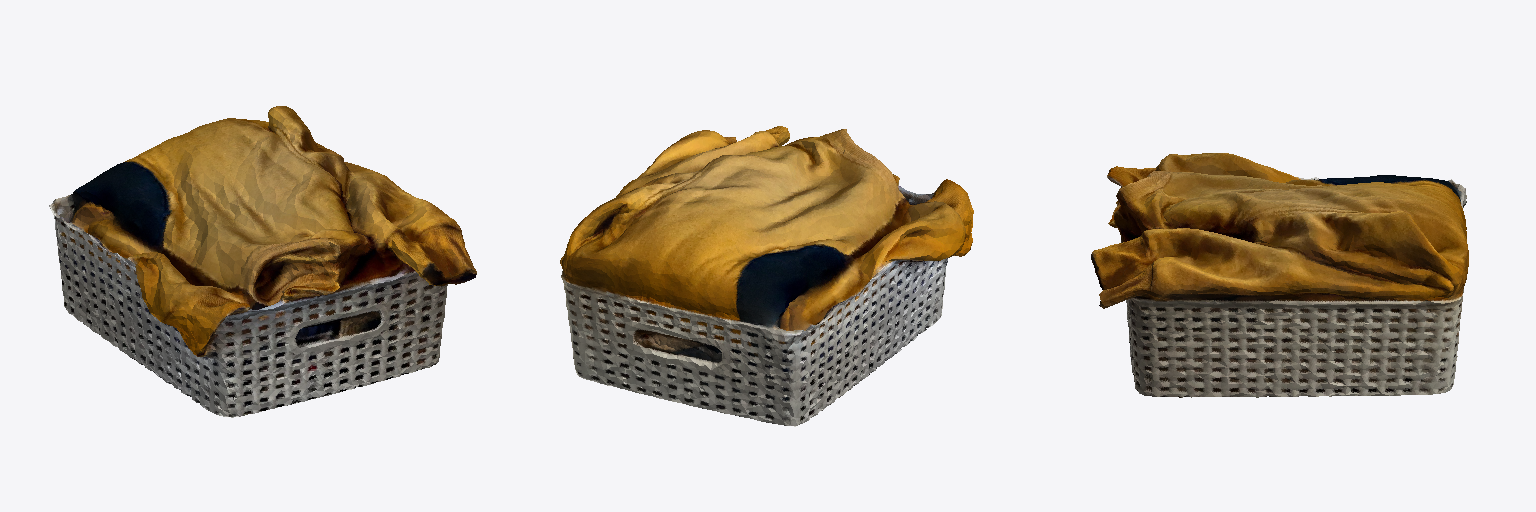
The picture shows the model from 3 angles: view 1: azimuth 30°, elevation 25°; view 2: azimuth 150°, elevation 25°; view 3: azimuth 270°, elevation 25°; orthographic projection.
Size of the model in its own units: 0.4128 by 0.2265 by 0.4639.
Materials: 1 (1 with a texture image).